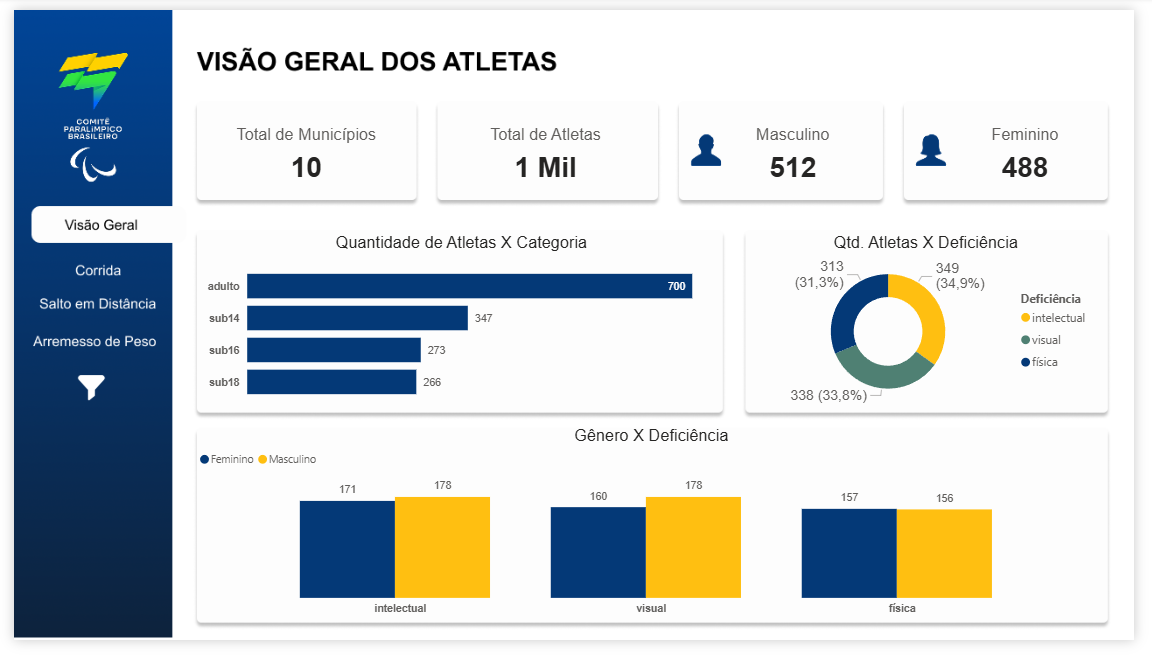

Layout of this report page (visuals, bound fields, positions):
{"tool":"powerbi","page":{"name":"Visão Geral","canvas":[1280,720],"ordinal":0},"visuals":[{"type":"donutChart","title":"Qtd. Atletas X Deficiência","fields":{"Category":["D_atletas.tipo_deficiencia"],"Y":["_medidas.qtd_atletas"]},"box":[842.9,255.7,398.6,202.9],"z":0},{"type":"clusteredBarChart","title":"Quantidade de Atletas X Categoria","fields":{"Category":["F_eventos.categoria","D_atletas.genero"],"Y":["_medidas.qtd_atletas"]},"box":[216.2,255,591.2,203.8],"z":1000},{"type":"cardVisual","fields":{"Data":["_medidas.qtd_municipios"]},"box":[207.8,112.2,254.4,105.6],"z":2000},{"type":"lineClusteredColumnComboChart","title":"Gênero X Deficiência","fields":{"Category":["D_atletas.tipo_deficiencia"],"Y":["_medidas.AtletaFeminino","_medidas.atletaMasculino"]},"box":[207.5,476.2,1042.5,223.8],"z":3000},{"type":"cardVisual","fields":{"Data":["_medidas.qtd_atletas"]},"box":[478.9,112.2,258.9,105.6],"z":4000},{"type":"cardVisual","fields":{"Data":["_medidas.atletaMasculino"]},"box":[787.8,112.2,206.7,105.6],"z":5000},{"type":"cardVisual","fields":{"Data":["_medidas.AtletaFeminino"]},"box":[1061.1,112.2,188.9,105.6],"z":6000},{"type":"image","box":[52.9,412.9,71.4,35.7],"z":7000},{"type":"actionButton","box":[13.3,280,166.7,40],"z":8000},{"type":"actionButton","box":[13.3,316.7,167.8,40],"z":9000},{"type":"actionButton","box":[13.3,356.7,167.8,46.7],"z":10000},{"type":"actionButton","box":[317,10,46,40],"z":12000},{"type":"actionButton","box":[298.8,643.8,55,53.8],"z":13000}]}

Visuals, with their boxes in screenshot pixels (x1, y1, x2, y2), scaled from the page's 1280x720 canvas onto the 1152x658 screenshot:
"Qtd. Atletas X Deficiência" donutChart: x1=759 y1=234 x2=1117 y2=419
"Quantidade de Atletas X Categoria" clusteredBarChart: x1=195 y1=233 x2=727 y2=419
cardVisual - _medidas.qtd_municipios: x1=187 y1=103 x2=416 y2=199
"Gênero X Deficiência" lineClusteredColumnComboChart: x1=187 y1=435 x2=1125 y2=640
cardVisual - _medidas.qtd_atletas: x1=431 y1=103 x2=664 y2=199
cardVisual - _medidas.atletaMasculino: x1=709 y1=103 x2=895 y2=199
cardVisual - _medidas.AtletaFeminino: x1=955 y1=103 x2=1125 y2=199
image: x1=48 y1=377 x2=112 y2=410
actionButton: x1=12 y1=256 x2=162 y2=292
actionButton: x1=12 y1=289 x2=163 y2=326
actionButton: x1=12 y1=326 x2=163 y2=369
actionButton: x1=285 y1=9 x2=327 y2=46
actionButton: x1=269 y1=588 x2=318 y2=638
